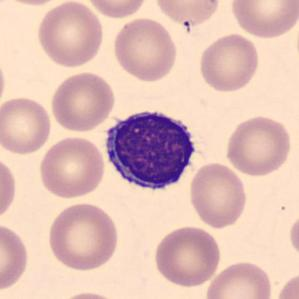Lymphocyte: (99, 102, 205, 198)
RBC: (45, 200, 121, 272), (34, 0, 106, 69), (110, 16, 180, 83), (36, 134, 106, 200), (152, 224, 223, 289), (223, 113, 294, 178), (48, 69, 117, 134), (187, 161, 249, 230), (196, 31, 261, 93), (0, 94, 53, 156), (203, 258, 275, 299), (228, 0, 298, 40), (0, 221, 31, 293), (152, 0, 223, 26), (83, 0, 151, 20), (0, 152, 18, 226), (273, 270, 298, 299), (54, 289, 124, 299), (286, 211, 299, 262), (0, 0, 71, 7), (0, 50, 7, 114)
